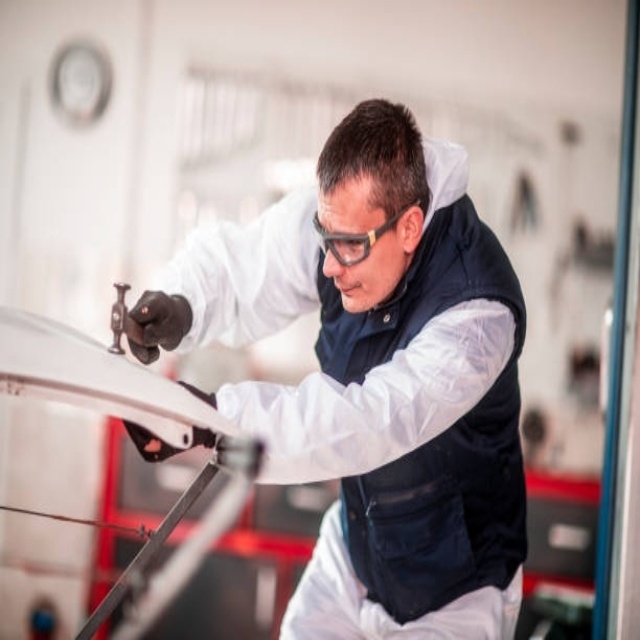Gafas: (311, 199, 419, 266)
Guantes: (119, 285, 195, 364)
Sin_mascara: (336, 273, 367, 314)
